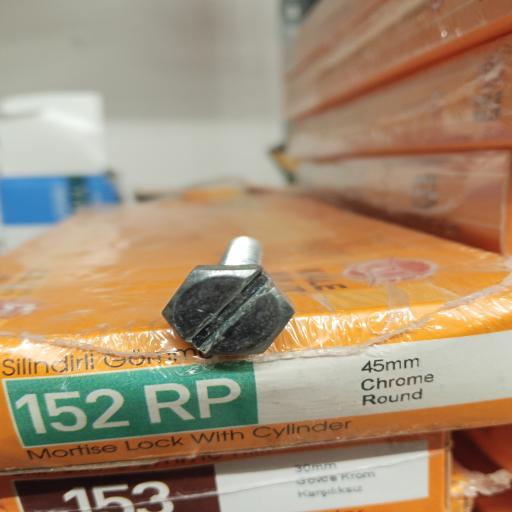Slotted: (160, 263, 296, 359)
